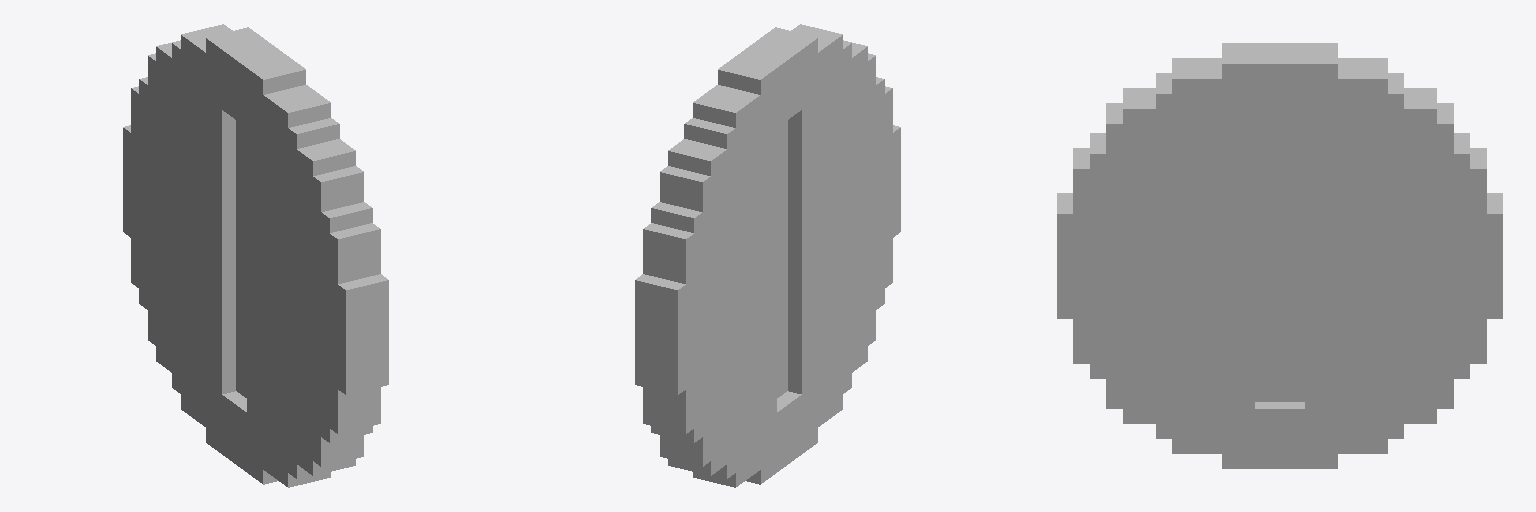
File: Coin.obj
3 views of the same model, side by side, from view 1: azimuth 30°, elevation 25°; view 2: azimuth 150°, elevation 25°; view 3: azimuth 270°, elevation 25° (orthographic).
Visible parts, largest first — view 1: object 1; view 2: object 1; view 3: object 1.
Part boxes in pixels (bbox=[...]): object 1: bbox=[123, 24, 388, 487]; object 1: bbox=[635, 24, 900, 487]; object 1: bbox=[1057, 43, 1502, 468].
Size of the model in its own units: 0.3 by 2.7 by 2.7.